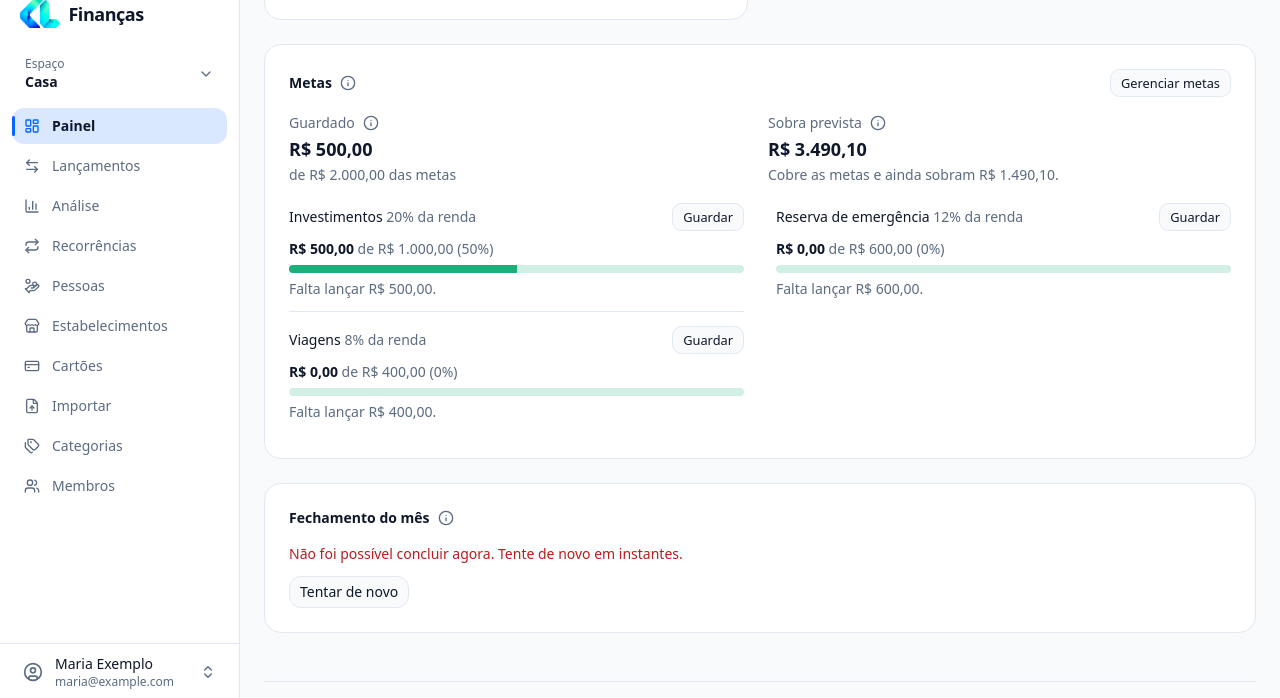
Test: DashboardPage › names the transaction after any goal, one the person created too
This screenshot has width=1280, height=698.
(page scrolled)
Click the button named "Guardar em Viagens" at (708, 340), box [672, 326, 744, 354]
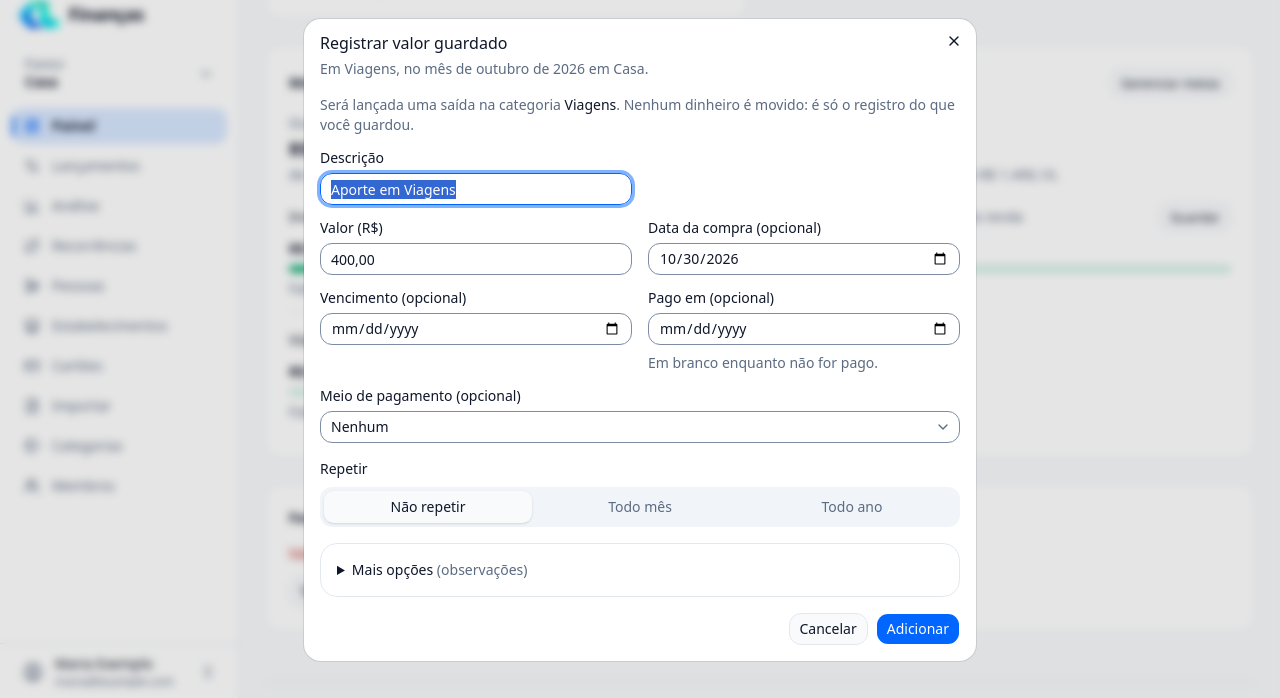
Expected: the field labelled "Descrição" holds "Aporte em Viagens", [320, 173, 632, 205]
